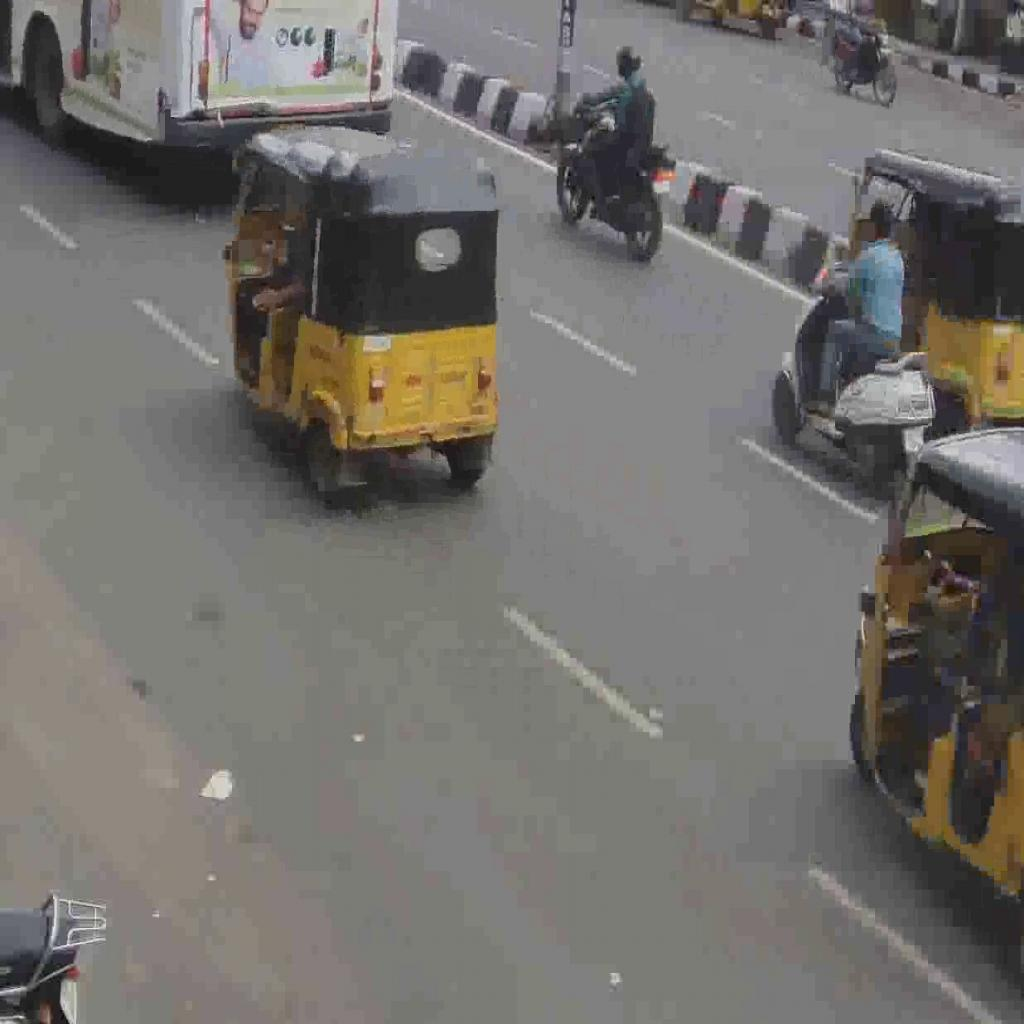helmet: (770, 257, 936, 494), (556, 90, 673, 263)
